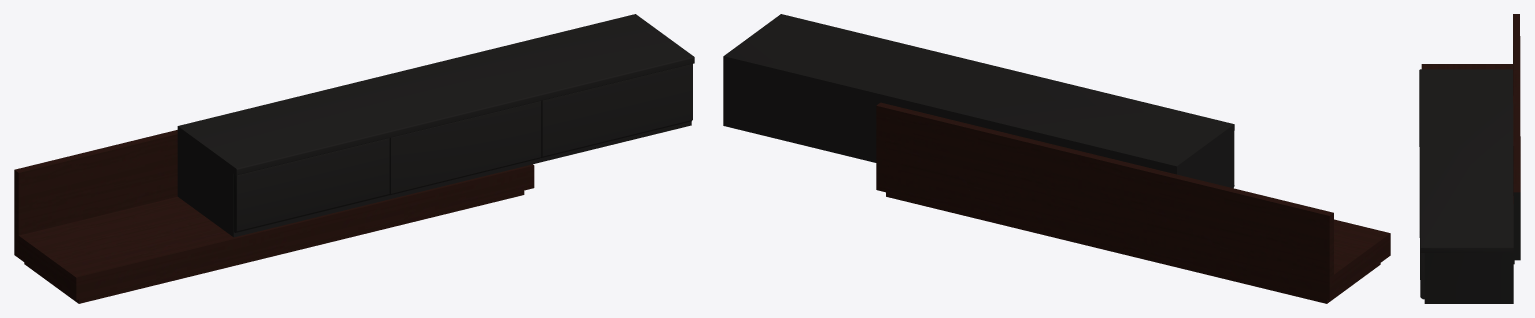
3 renders of one model, left to right at view 1: azimuth 30°, elevation 25°; view 2: azimuth 150°, elevation 25°; view 3: azimuth 270°, elevation 25°, orthographic. The views are drawn at different scales.
Visible parts, largest first — view 1: C-skp2337, xcm_flap2; view 2: C-skp2337; view 3: C-skp2337, xcm_flap3.
Part boxes in pixels (x1=…): C-skp2337: x1=14, y1=14, x2=694, y2=303; xcm_flap2: x1=389, y1=100, x2=542, y2=195; C-skp2337: x1=723, y1=14, x2=1390, y2=303; C-skp2337: x1=1419, y1=14, x2=1520, y2=303; xcm_flap3: x1=1420, y1=247, x2=1424, y2=299.
Bounding box in the file's own units: 2.49 × 0.3903 × 0.4436.
Materials: 2 (1 with a texture image).
